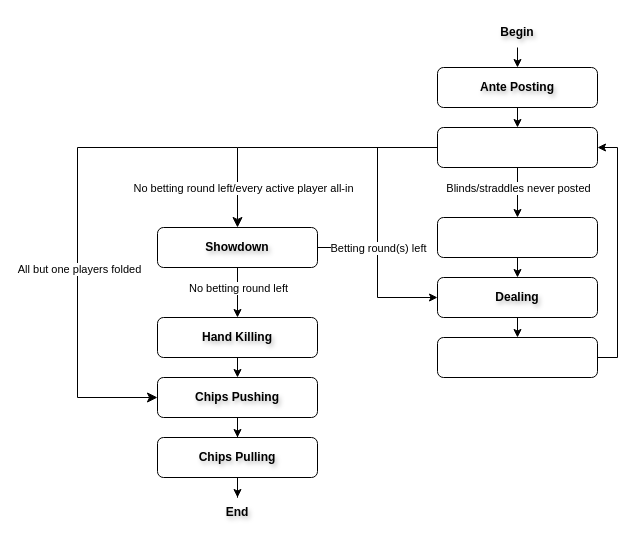
This 643x544 diagram has some shape labels left out. Each missing label, with the centre of its shape:
"Bet Collection" belongs at (x=517, y=147).
"Betting" belongs at (x=517, y=357).
"Blind/Straddle Posting" belongs at (x=517, y=237).
